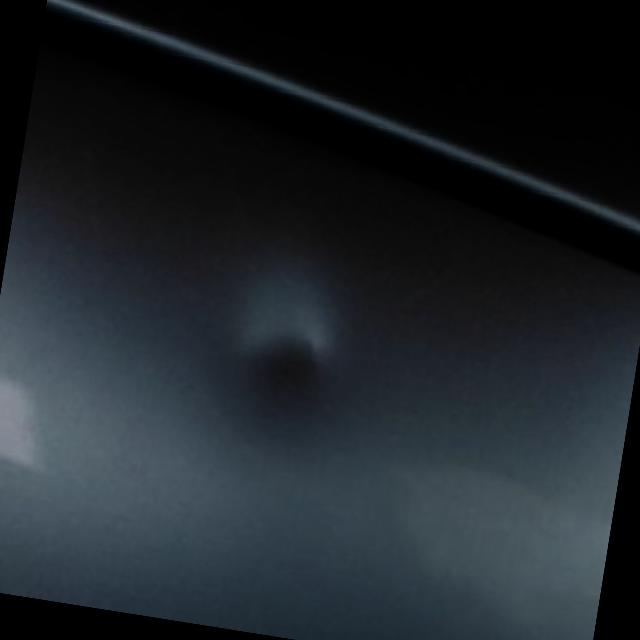dent: (212, 328, 336, 442)
